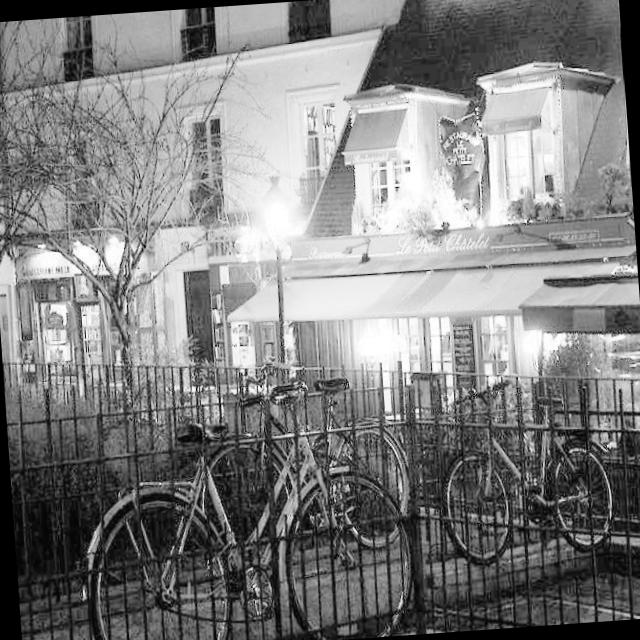Bicycle: (76, 404, 435, 640), (417, 364, 640, 580)
